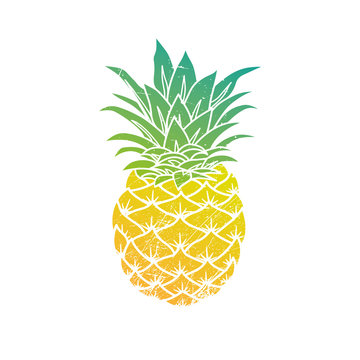Pineapple: (101, 38, 260, 306)
